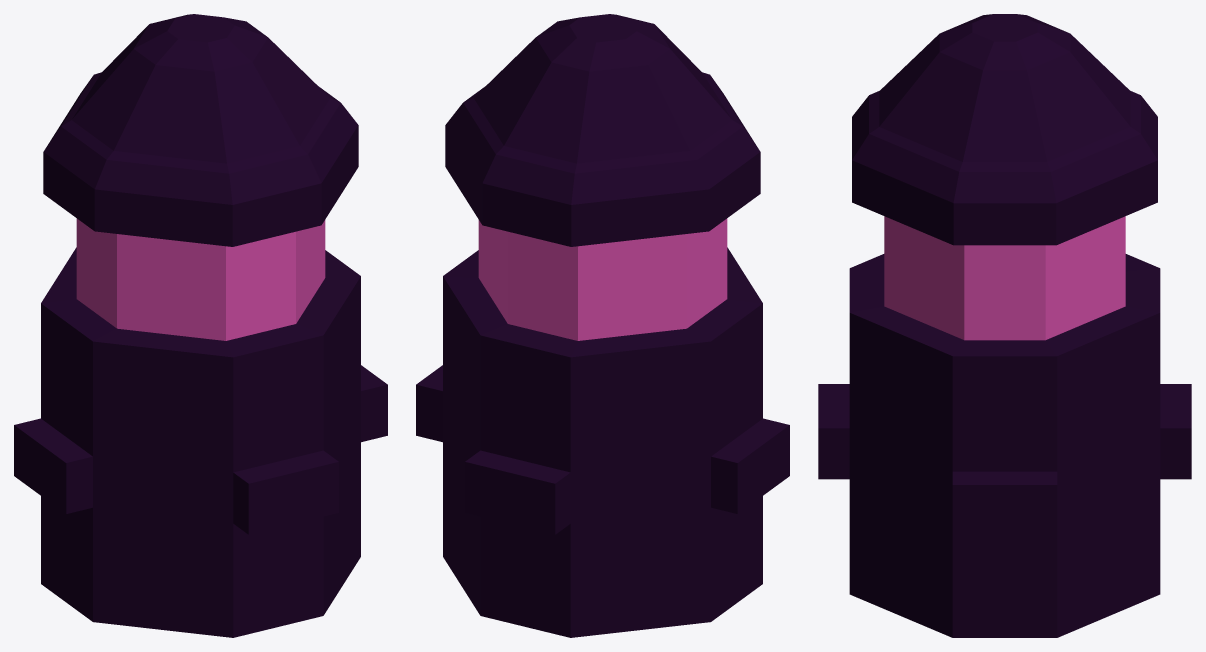
File: barrier_tower.fbx
The picture shows the model from 3 angles, left to right: view 1: azimuth 30°, elevation 25°; view 2: azimuth 150°, elevation 25°; view 3: azimuth 270°, elevation 25°; orthographic projection.
Visible parts, largest first — view 1: barrier-tower; view 2: barrier-tower; view 3: barrier-tower.
Boxes of the visible parts, box(x1,y1,x2,y2) form: barrier-tower: box(14, 14, 387, 637); barrier-tower: box(416, 14, 789, 637); barrier-tower: box(818, 14, 1191, 637).
Size of the model in its own units: 240 by 386 by 240.
